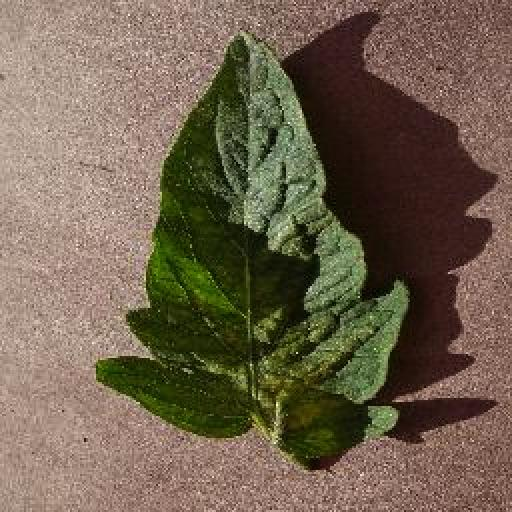disease_tomato: (94, 28, 412, 474)
